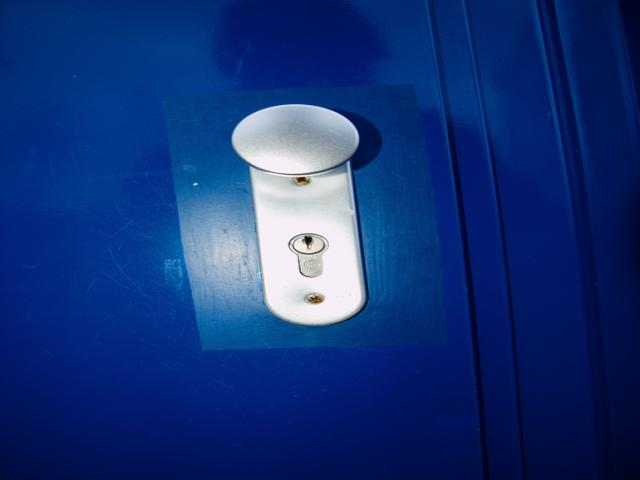Door-handle: (220, 103, 364, 182)
